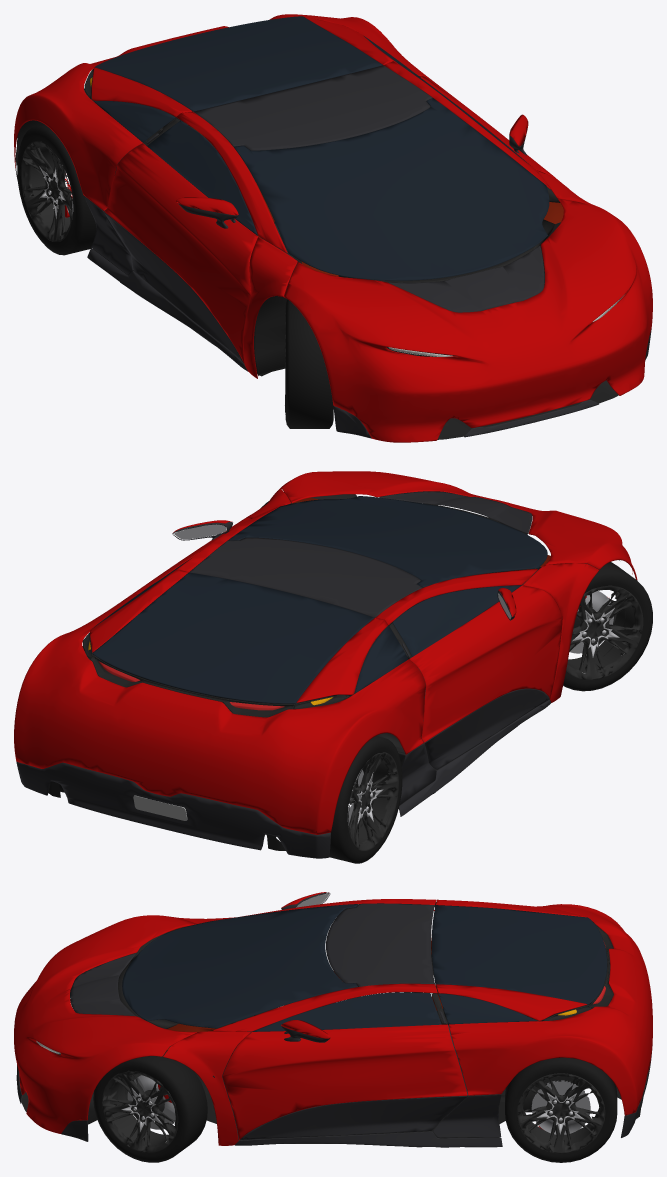
The model's file is flying-tesla.glb.
3 renders of one model, top to bottom at view 1: azimuth 30°, elevation 25°; view 2: azimuth 150°, elevation 25°; view 3: azimuth 270°, elevation 25°, orthographic. The views are drawn at different scales.
Parts seen in each view (by area): view 1: BodyWindshield; view 2: BodyWindshield; view 3: BodyWindshield.
Boxes of the visible parts, x1,y1,x2,y2 form: BodyWindshield: (14,14,652,442); BodyWindshield: (14,471,652,863); BodyWindshield: (14,892,652,1162).
Bounding box in the file's own units: 2.54 × 1.15 × 4.36.
